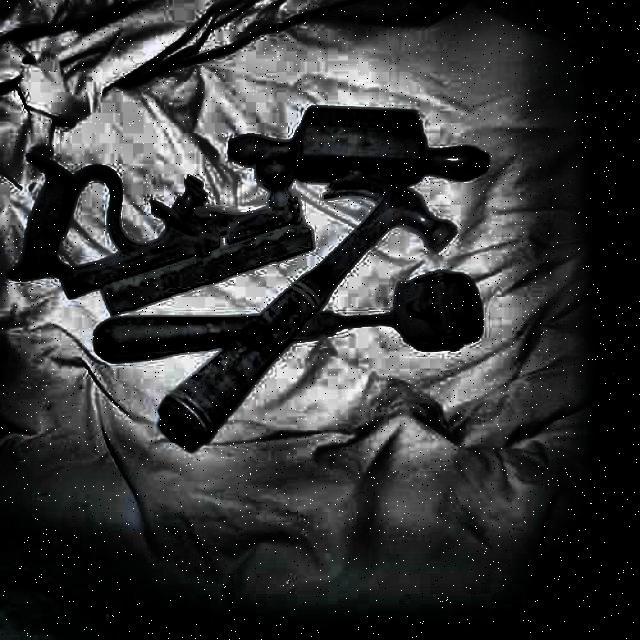hammer: (160, 174, 458, 450)
